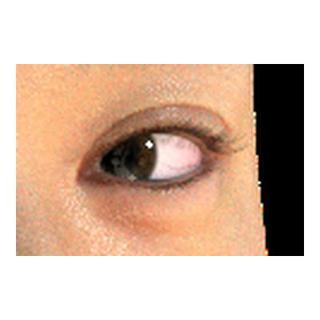pupil: (101, 139, 132, 170)
